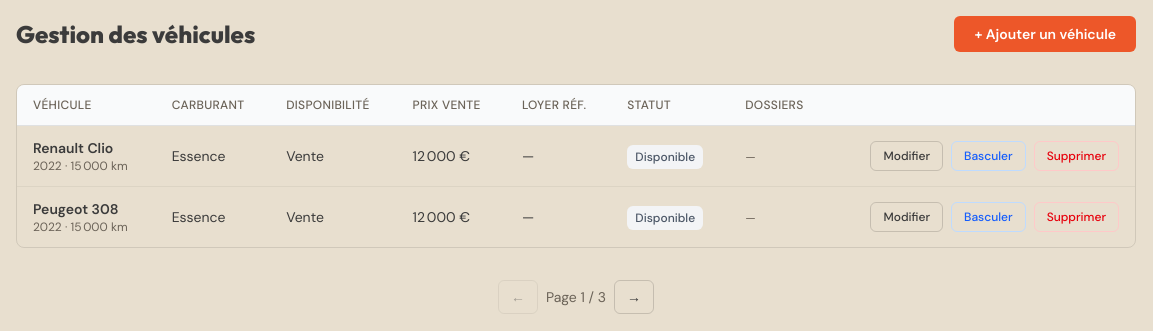
Scenario: VehicleManagement › revient à la page précédente via le bouton ←
Click the button "→" at (634, 297), box [614, 280, 654, 314]
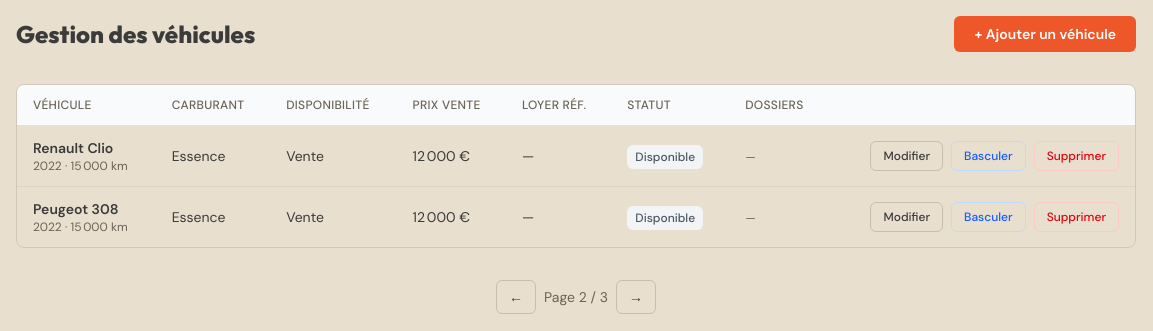
Click the button "←" at (516, 297), box [496, 280, 536, 314]
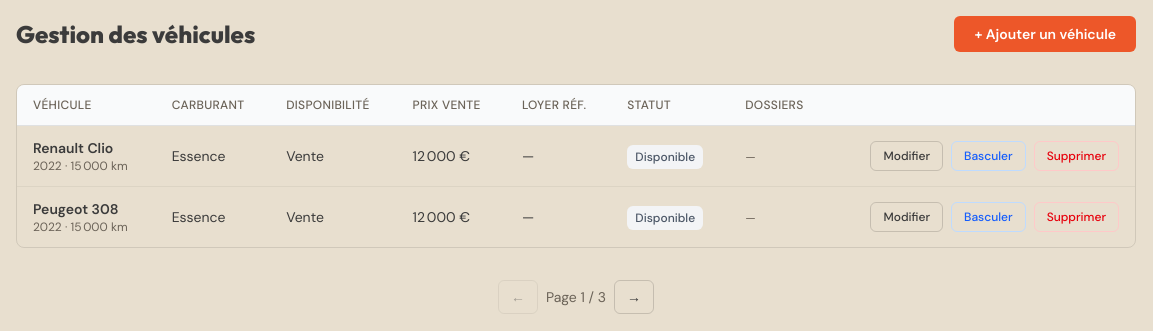
Expected: the text "Page 1 / 3" is shown, [546, 287, 606, 307]
